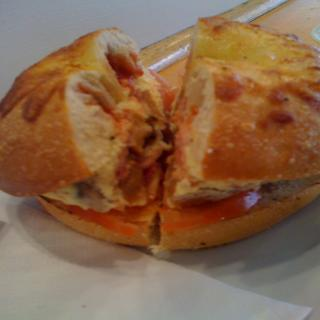Bread: (1, 6, 320, 255)
